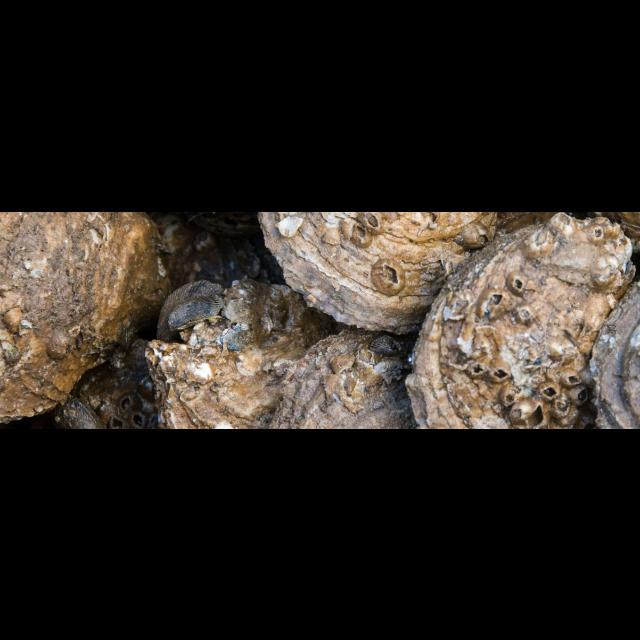Oyster-Closed: (186, 211, 261, 235)
Oyster-Indeterminate: (406, 212, 636, 429), (0, 211, 172, 422), (147, 278, 348, 429), (257, 211, 497, 333), (268, 326, 420, 429), (155, 213, 285, 287), (70, 338, 159, 429), (591, 281, 640, 429), (157, 279, 225, 340), (588, 211, 640, 249), (494, 211, 559, 241), (168, 294, 222, 330), (51, 396, 104, 429), (371, 335, 401, 354)
